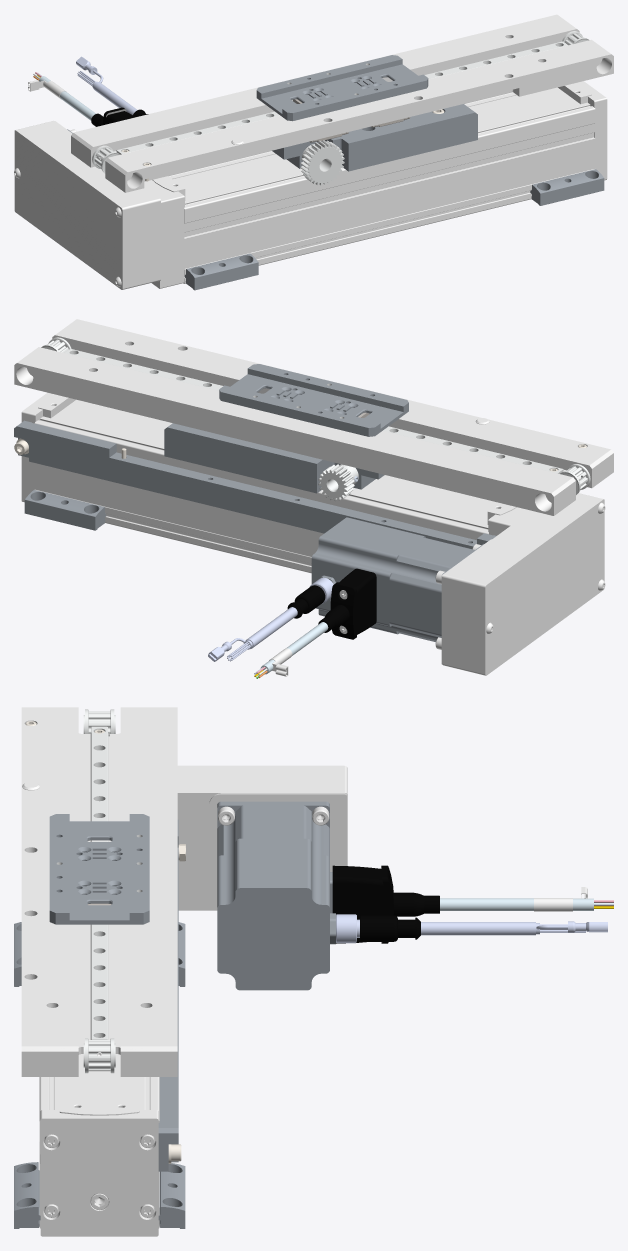
The model's file is teles-test.glb.
The picture shows the model from 3 angles, top to bottom: view 1: azimuth 30°, elevation 25°; view 2: azimuth 150°, elevation 25°; view 3: azimuth 270°, elevation 25°; orthographic projection. The views are drawn at different scales.
Visible parts, largest first — view 1: color-17, satin finish aluminum-2, color-41, satin finish aluminum-1, satin finish aluminum, color-42, carbon steel-1, 256,256,256, color-23, color-32, color-29, color-33 (+1 smaller); view 2: satin finish aluminum-2, color-17, color-41, satin finish aluminum-3, color-45, satin finish aluminum-1, satin finish aluminum, color-32, carbon steel-1, color-42, color-6, color-31 (+5 smaller); view 3: satin finish aluminum-2, color-45, color-17, color-41, satin finish aluminum-1, color-42, color-32, carbon steel-1, satin finish aluminum-3, color-23, color-29, color-33 (+2 smaller).
Boxes of the visible parts, box(x1,y1,x2,y2) form: color-17: box(144, 81, 607, 288); satin finish aluminum-2: box(71, 14, 613, 192); color-41: box(14, 121, 160, 289); satin finish aluminum-1: box(256, 55, 428, 121); satin finish aluminum: box(272, 104, 477, 171); color-42: box(184, 169, 604, 290); carbon steel-1: box(116, 41, 567, 154); 256,256,256: box(300, 140, 344, 185); color-23: box(92, 31, 589, 173); color-32: box(91, 107, 135, 126); color-29: box(93, 82, 137, 114); color-33: box(37, 72, 95, 120); satin finish aluminum-2: box(14, 319, 613, 515); color-17: box(21, 392, 530, 573); color-41: box(441, 493, 605, 675); satin finish aluminum-3: box(14, 420, 496, 548); color-45: box(311, 517, 483, 642); satin finish aluminum-1: box(219, 364, 408, 436); satin finish aluminum: box(164, 423, 384, 493); color-32: box(318, 568, 376, 639); carbon steel-1: box(64, 348, 563, 473); color-42: box(24, 490, 106, 530); color-6: box(318, 464, 358, 500); color-31: box(208, 577, 333, 661); satin finish aluminum-2: box(21, 707, 177, 1076); color-45: box(217, 801, 335, 990); color-17: box(39, 1054, 159, 1236); color-41: box(177, 765, 347, 910); satin finish aluminum-1: box(49, 814, 149, 924); color-42: box(14, 922, 185, 1228); color-32: box(332, 865, 439, 943); carbon steel-1: box(90, 726, 108, 1039); satin finish aluminum-3: box(158, 819, 178, 1171); color-23: box(83, 709, 115, 1073); color-29: box(421, 922, 535, 935); color-33: box(440, 898, 613, 910).
Bounding box in the file's own units: 0.4065 × 0.1119 × 0.3.
